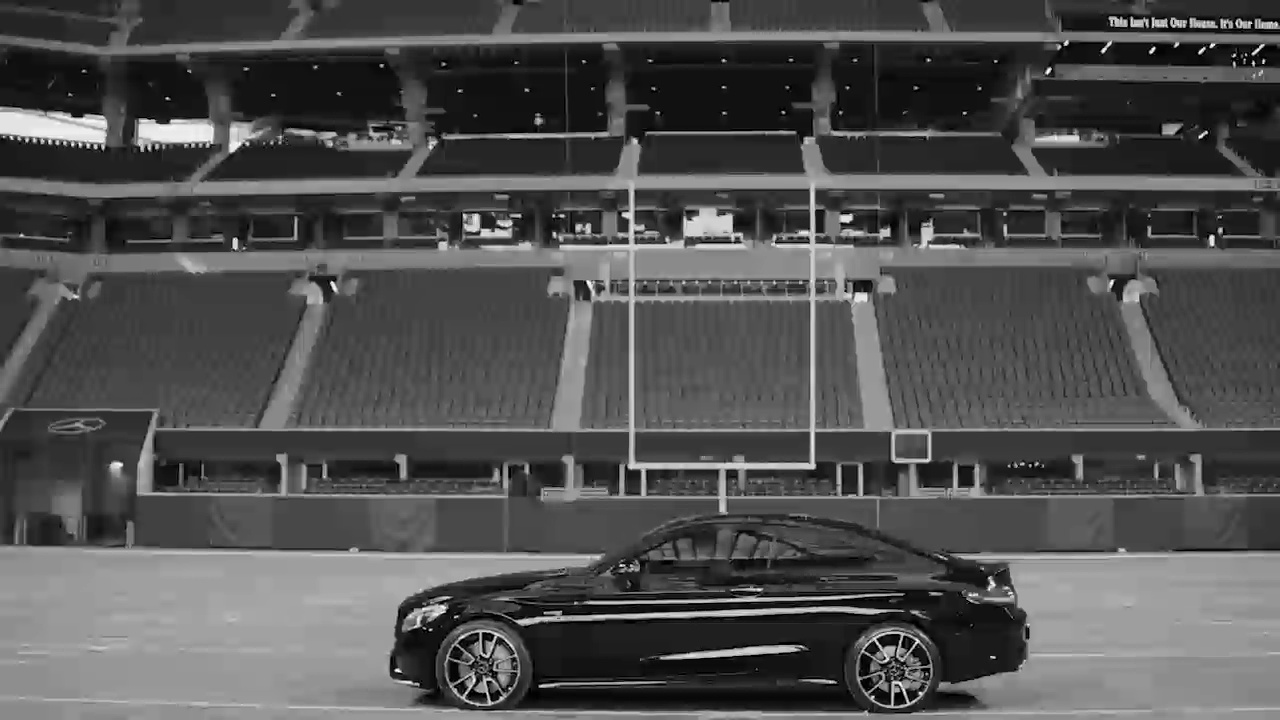car: (373, 505, 1045, 720)
